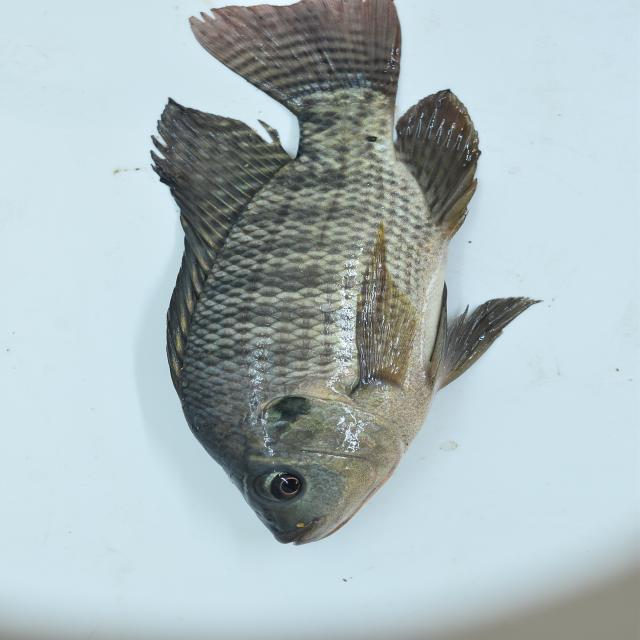Healthy Fish: (144, 4, 544, 553)
